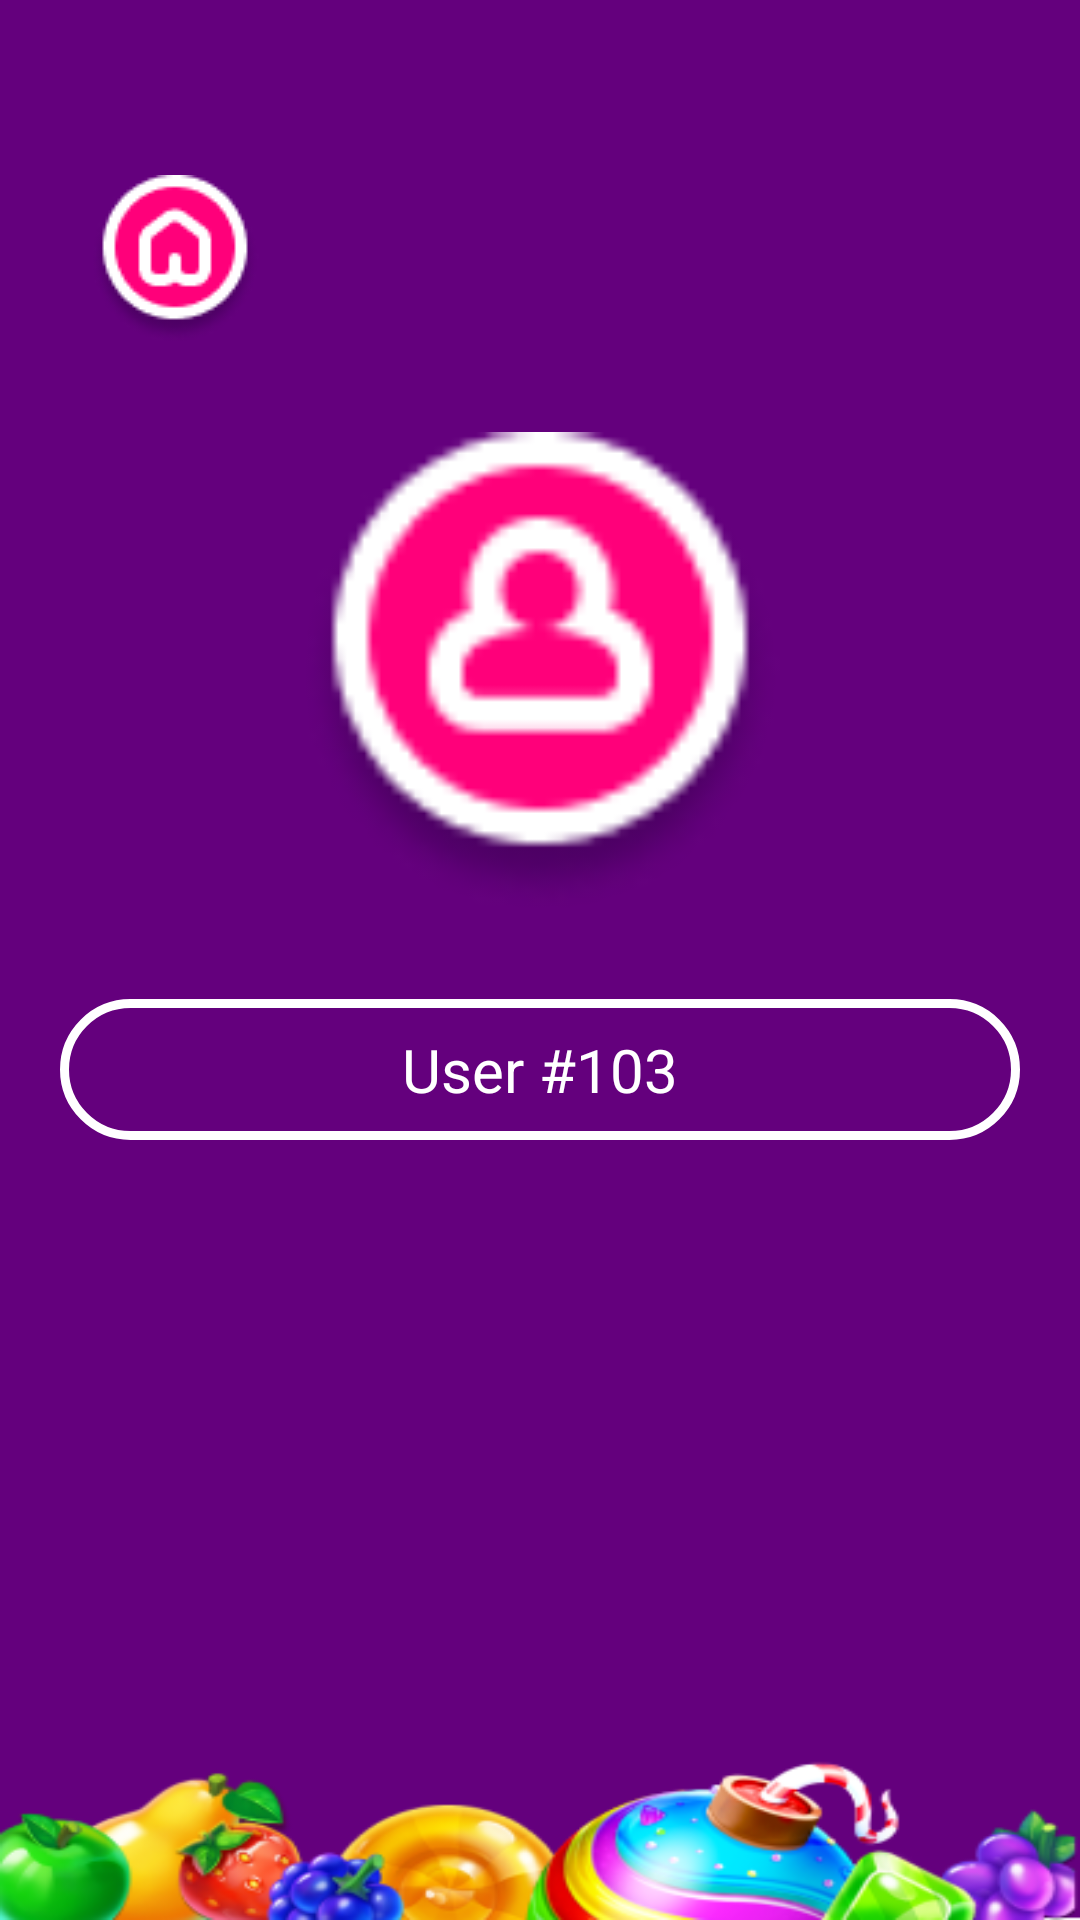

Where icons sit on this 1080×1920 app screen, as [left=x1, top=y1, right=x2, bottom=y2]:
home: [left=102, top=175, right=248, bottom=323]
